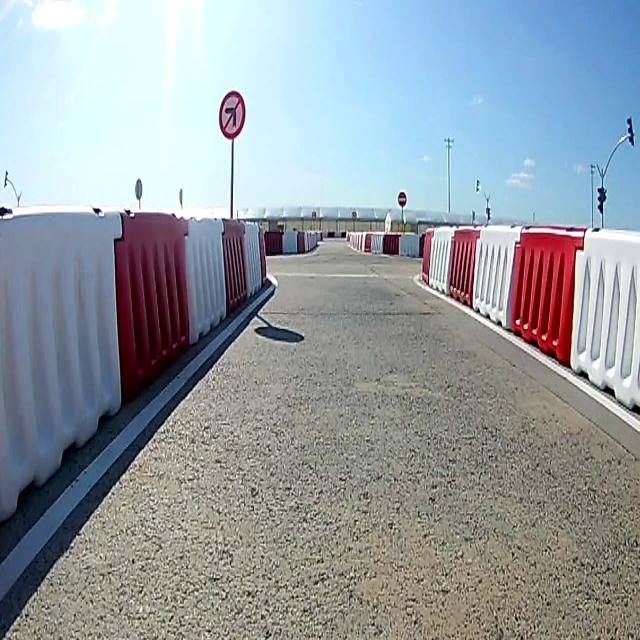girisyok: (397, 190, 407, 208)
soladonulmez: (218, 89, 246, 139)
